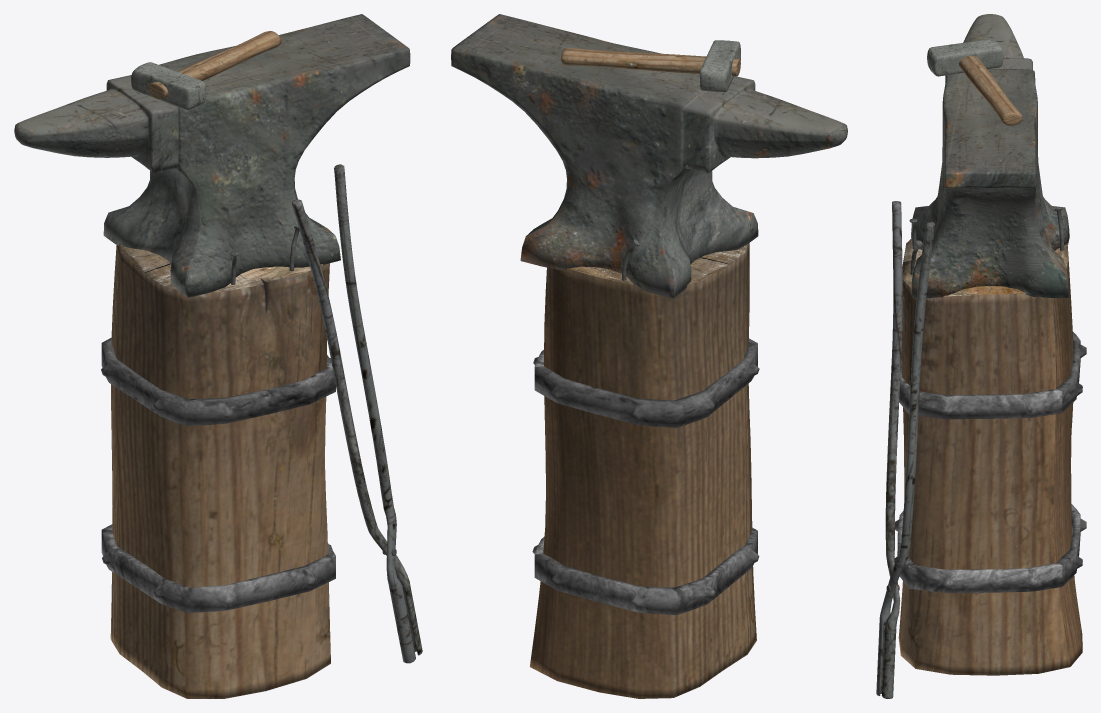
File: Anvil.fbx
3 views of the same model, side by side, from view 1: azimuth 30°, elevation 25°; view 2: azimuth 150°, elevation 25°; view 3: azimuth 270°, elevation 25° (orthographic). The views are drawn at different scales.
Visible parts, largest first — view 1: Anvil; view 2: Anvil; view 3: Anvil.
Part boxes in pixels (box(x1,y1,x2,y2)): Anvil: box(14, 14, 422, 698); Anvil: box(451, 14, 847, 698); Anvil: box(876, 14, 1086, 698).
Bounding box in the file's own units: 64.62 × 101 × 34.24.
